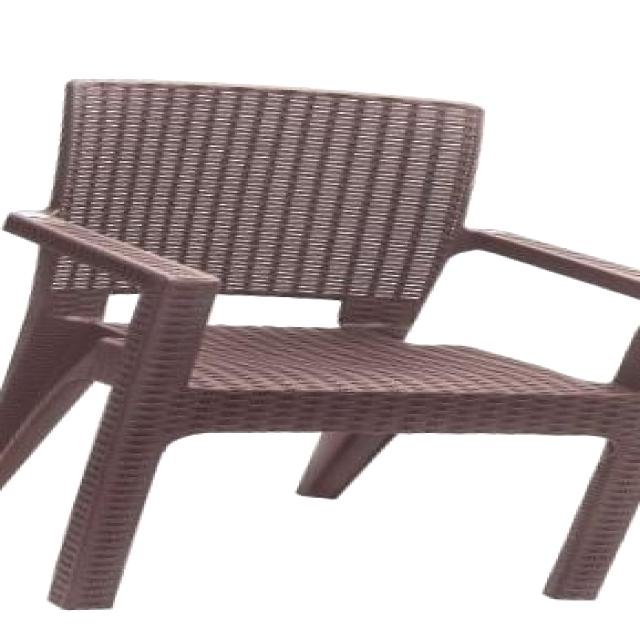Chair: (8, 77, 632, 617)
